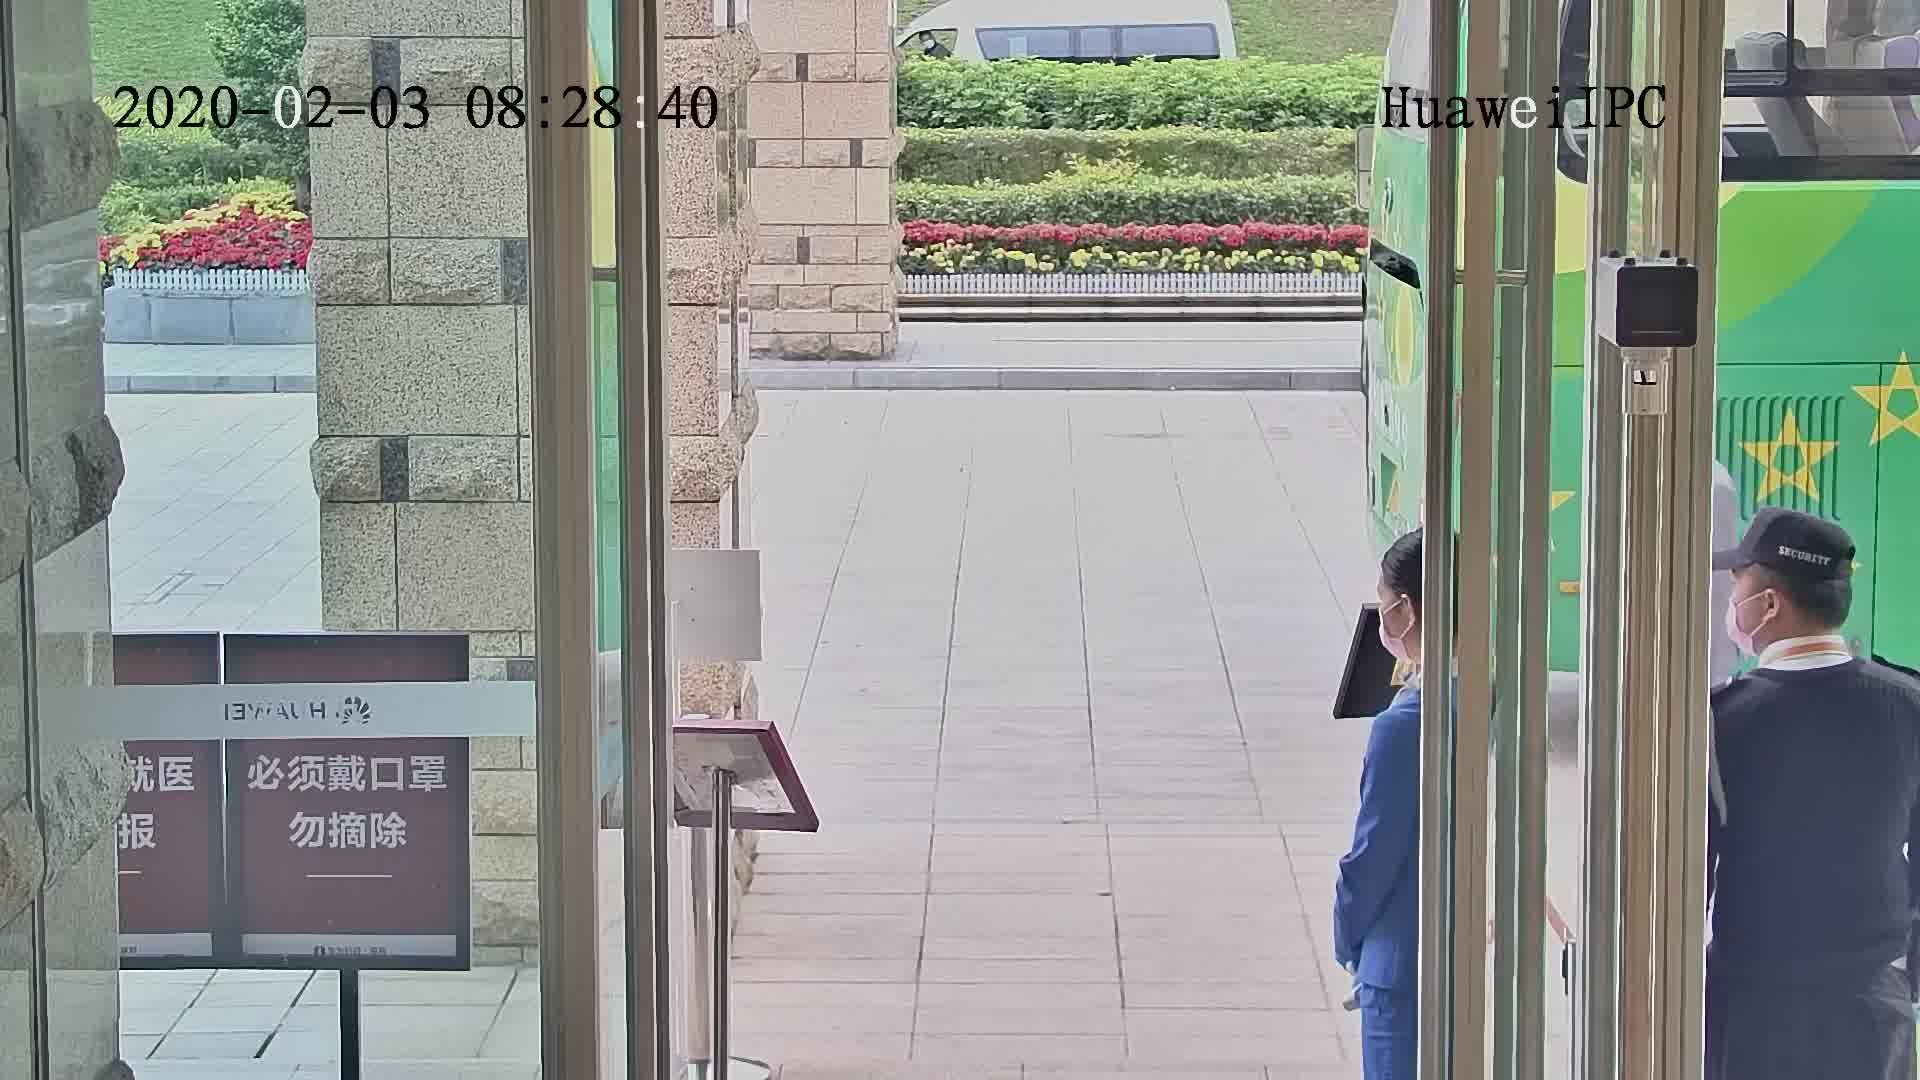face: (1725, 571, 1769, 662)
mask: (1720, 595, 1758, 662)
person: (1713, 499, 1917, 773), (1356, 523, 1430, 760)
